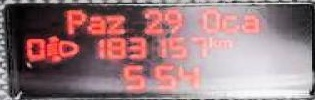0: (25, 36, 43, 60)
1: (158, 36, 165, 56), (97, 38, 103, 58)
2: (142, 9, 163, 34)
3: (125, 36, 145, 57)
4: (177, 65, 198, 87)
5: (121, 64, 145, 89), (153, 64, 175, 88), (166, 36, 185, 57)
7: (188, 36, 207, 56)
8: (105, 36, 123, 57)
9: (162, 7, 182, 31)
X: (65, 9, 83, 34), (200, 7, 218, 32), (103, 14, 125, 33), (85, 15, 105, 34), (218, 13, 237, 33), (240, 13, 256, 33), (216, 37, 230, 46), (208, 35, 217, 47)
